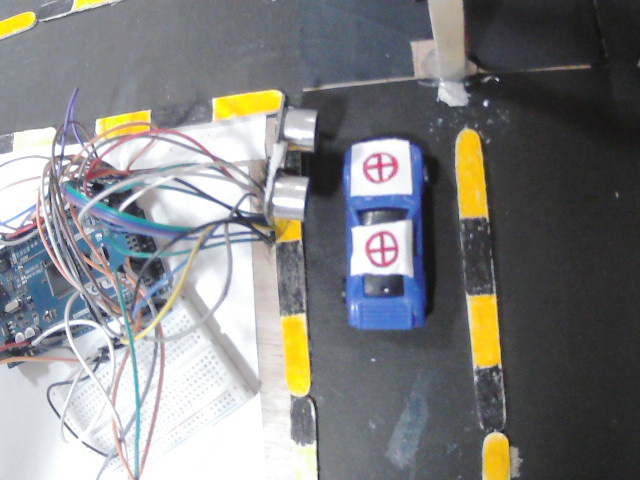emergency_vehicle: (339, 137, 432, 329)
uno_breadboard: (50, 287, 251, 474), (0, 161, 172, 367), (260, 95, 320, 229)
